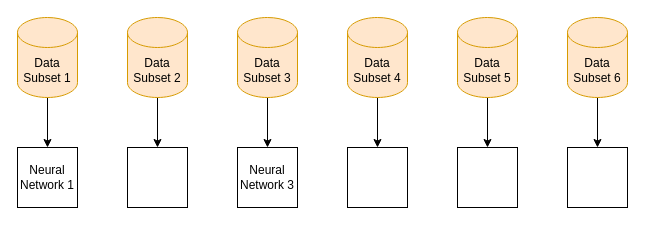
Some shapes in this 645 by 225 pixel diagram are drawn without their labels. Here are the shapes that lost their labels. From the top down, the centre of each, then its label:
At (x=157, y=177): "Neural Network 2".
At (x=377, y=177): "Neural Network 4".
At (x=487, y=177): "Neural Network 5".
At (x=597, y=177): "Neural Network 6".
